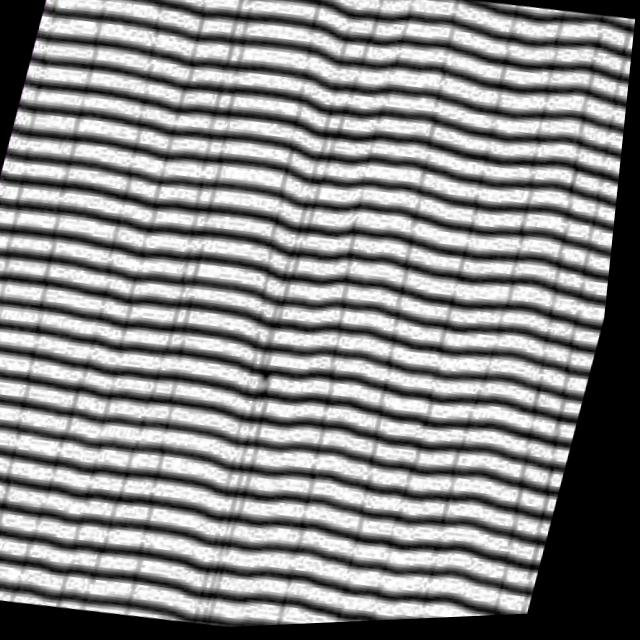Stitch: (221, 159, 357, 437)
